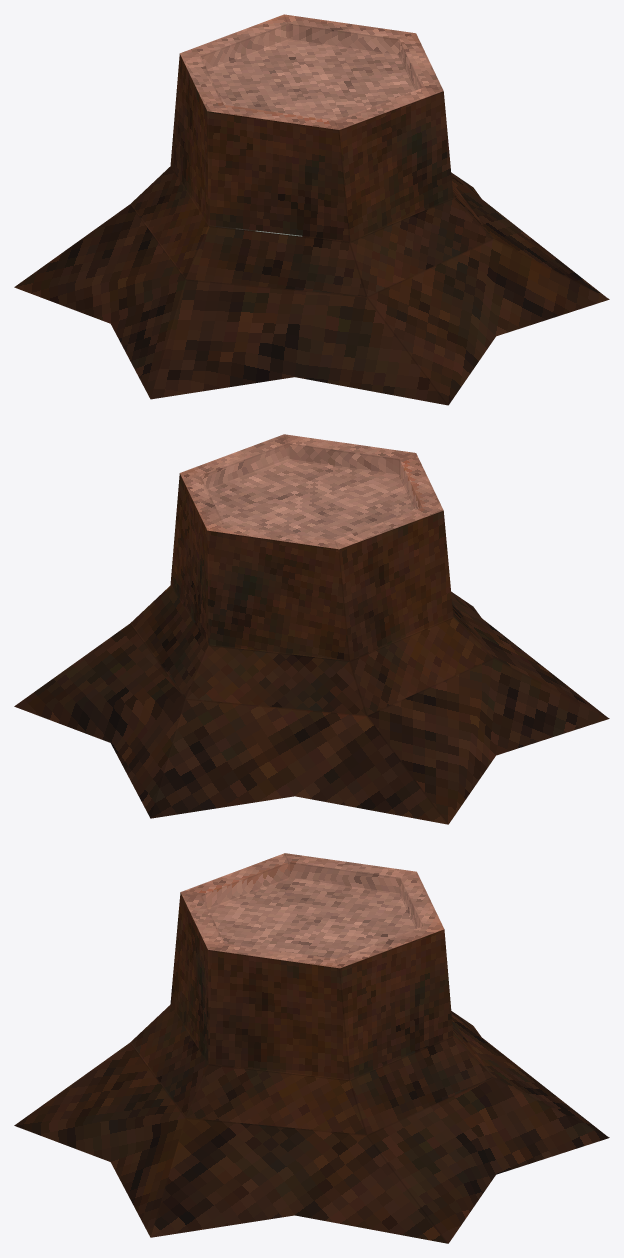
Rendered from stump_05.glb.
The picture shows the model from 3 angles, top to bottom: view 1: azimuth 30°, elevation 25°; view 2: azimuth 150°, elevation 25°; view 3: azimuth 270°, elevation 25°; orthographic projection.
Visible parts, largest first — view 1: STUMP_05; view 2: STUMP_05; view 3: STUMP_05.
Boxes of the visible parts, x1,y1,x2,y2 form: STUMP_05: [14, 14, 609, 405]; STUMP_05: [14, 434, 609, 824]; STUMP_05: [14, 853, 609, 1243].
Size of the model in its own units: 2.91 by 1.34 by 3.27.
Materials: 1 (1 with a texture image).
